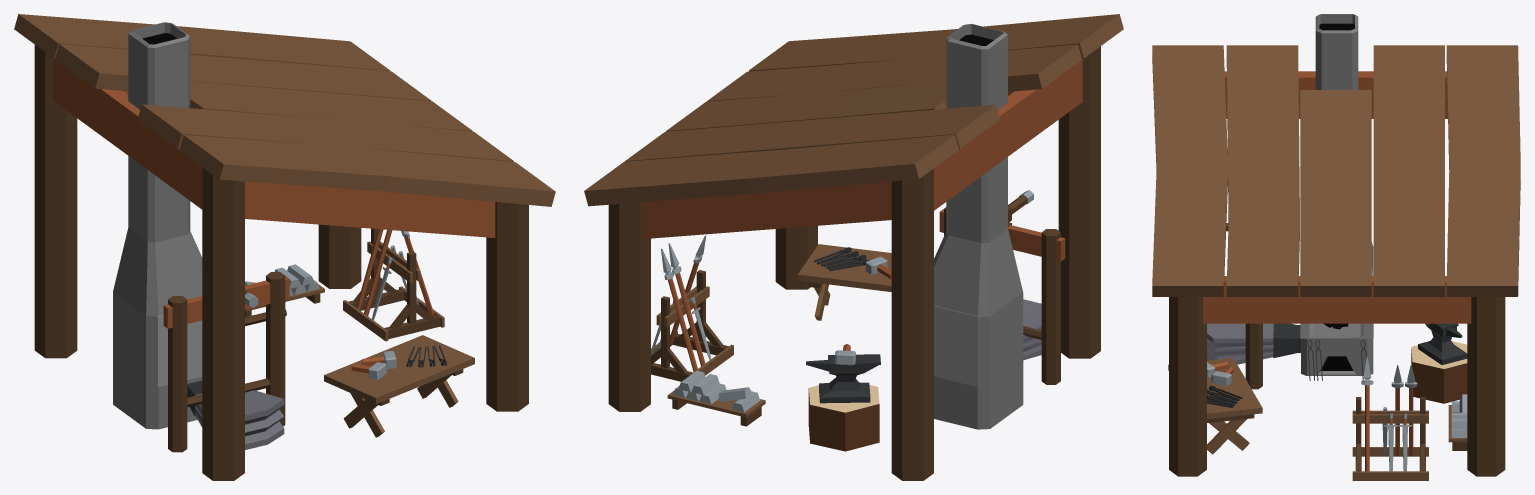
File: ExplodedBlackSmithShop.fbx
3 renders of one model, left to right at view 1: azimuth 30°, elevation 25°; view 2: azimuth 150°, elevation 25°; view 3: azimuth 270°, elevation 25°, orthographic. The views are drawn at different scales.
Visible parts, largest first — view 1: BlackSmithShop.017, BlackSmithShop.002, BlackSmithShop.012, BlackSmithShop.009, BlackSmithShop.005, BlackSmithShop.016, BlackSmithShop.007, BlackSmithShop.010, BlackSmithShop.008, BlackSmithShop.006, BlackSmithShop.015, BlackSmithShop.041 (+11 smaller); view 2: BlackSmithShop.017, BlackSmithShop.008, BlackSmithShop.009, BlackSmithShop.012, BlackSmithShop.007, BlackSmithShop.013, BlackSmithShop.011, BlackSmithShop.005, BlackSmithShop.002, BlackSmithShop.006, BlackSmithShop.015, BlackSmithShop.044 (+10 smaller); view 3: BlackSmithShop.002, BlackSmithShop.008, BlackSmithShop.005, BlackSmithShop.007, BlackSmithShop.006, BlackSmithShop.014, BlackSmithShop.011, BlackSmithShop.017, BlackSmithShop.010, BlackSmithShop.044, BlackSmithShop.034, BlackSmithShop.045 (+10 smaller).
Part boxes in pixels (box(x1,y1,x2,y2)): BlackSmithShop.017: box(113, 22, 202, 429); BlackSmithShop.002: box(179, 135, 555, 206); BlackSmithShop.012: box(202, 167, 244, 480); BlackSmithShop.009: box(34, 44, 77, 358); BlackSmithShop.005: box(137, 104, 513, 161); BlackSmithShop.016: box(245, 181, 495, 237); BlackSmithShop.007: box(55, 44, 431, 101); BlackSmithShop.010: box(486, 202, 528, 411); BlackSmithShop.008: box(14, 14, 390, 70); BlackSmithShop.006: box(189, 81, 472, 131); BlackSmithShop.015: box(53, 58, 202, 209); BlackSmithShop.041: box(168, 296, 187, 452); BlackSmithShop.017: box(934, 23, 1023, 429); BlackSmithShop.008: box(584, 134, 958, 206); BlackSmithShop.009: box(891, 168, 933, 480); BlackSmithShop.012: box(1058, 46, 1100, 358); BlackSmithShop.007: box(625, 104, 999, 161); BlackSmithShop.013: box(641, 181, 891, 239); BlackSmithShop.011: box(608, 202, 650, 411); BlackSmithShop.005: box(707, 44, 1082, 101); BlackSmithShop.002: box(749, 14, 1123, 71); BlackSmithShop.006: box(666, 81, 946, 131); BlackSmithShop.015: box(934, 58, 1082, 210); BlackSmithShop.044: box(808, 382, 879, 451); BlackSmithShop.002: box(1152, 45, 1227, 296); BlackSmithShop.008: box(1446, 45, 1520, 296); BlackSmithShop.005: box(1226, 45, 1299, 296); BlackSmithShop.007: box(1373, 45, 1444, 296); BlackSmithShop.006: box(1300, 90, 1371, 296); BlackSmithShop.014: box(1203, 276, 1471, 323); BlackSmithShop.011: box(1467, 297, 1505, 476); BlackSmithShop.017: box(1301, 14, 1373, 375); BlackSmithShop.010: box(1169, 297, 1206, 476); BlackSmithShop.044: box(1411, 341, 1467, 403); BlackSmithShop.034: box(1207, 323, 1273, 364); BlackSmithShop.045: box(1418, 323, 1467, 364).
Size of the model in its own units: 776 by 828 by 823.
